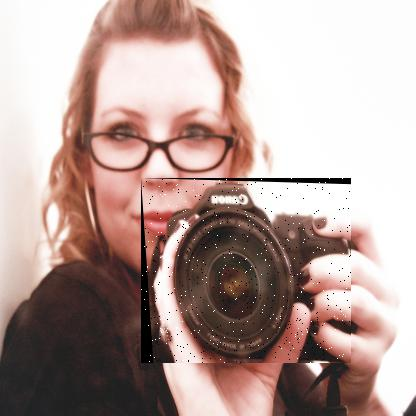Camera: (142, 179, 353, 365)
